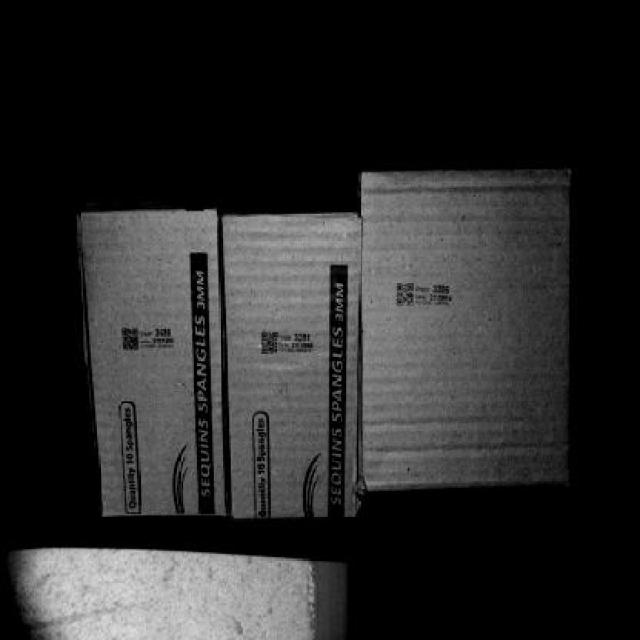cardboxes: (366, 166, 566, 485), (82, 214, 227, 518), (232, 220, 354, 518)
